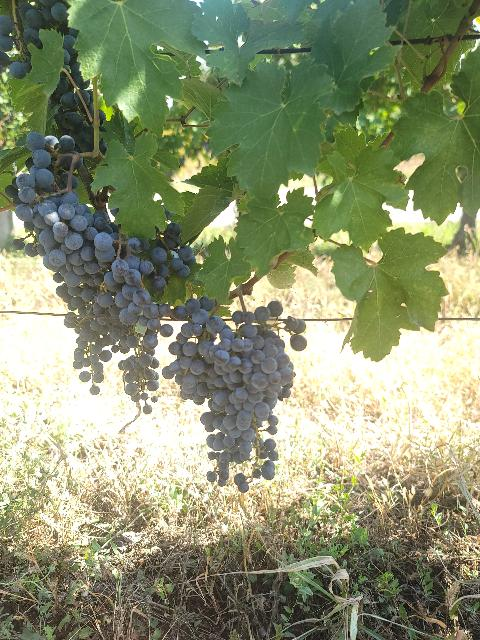grapes: (6, 132, 111, 280), (222, 301, 295, 461), (162, 296, 225, 405), (96, 258, 171, 336)
